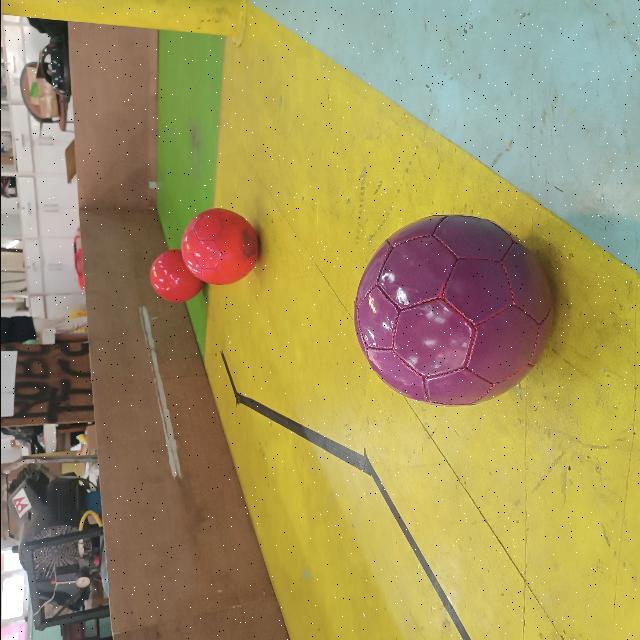P: (350, 212, 554, 408)
R: (177, 206, 261, 288), (146, 247, 206, 306)
